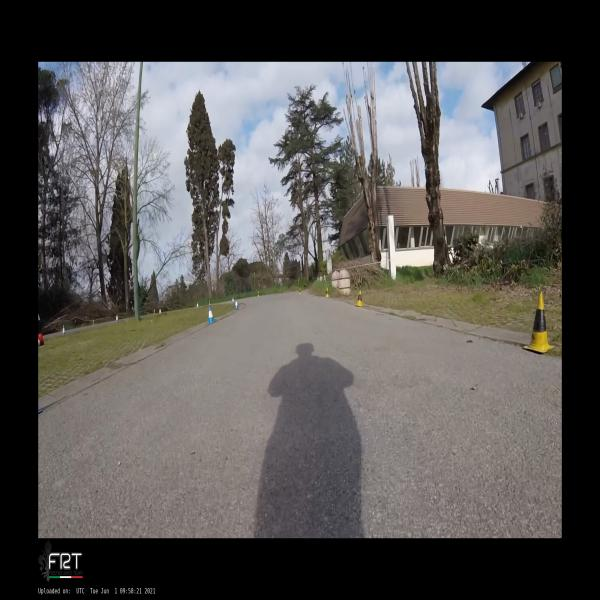blue_cone: (207, 306, 216, 324), (234, 299, 239, 310), (62, 325, 66, 335), (116, 314, 118, 322), (232, 297, 234, 303), (196, 302, 198, 308), (159, 308, 161, 314)
orange_cone: (39, 334, 44, 346)
yellow_cone: (523, 292, 555, 353), (355, 290, 363, 307), (325, 288, 329, 297), (257, 291, 260, 297), (298, 288, 300, 295), (153, 309, 155, 314), (209, 300, 210, 305)
